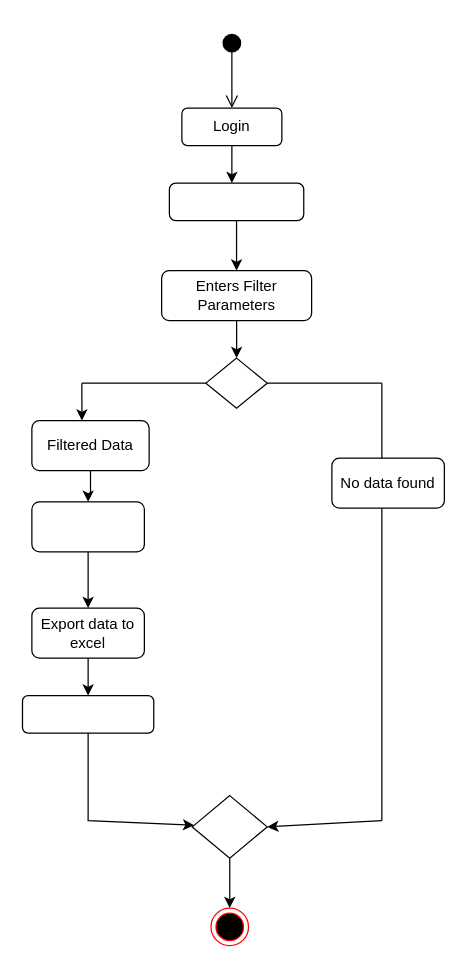
Some shapes in this 466 by 968 pixel diagram are drawn without their labels. Each missing label, with the box of its shape:
Downloaded CSV file: (21, 694, 154, 733)
Request Export to Excel: (31, 501, 144, 552)
View Complaint Data: (168, 182, 304, 221)
